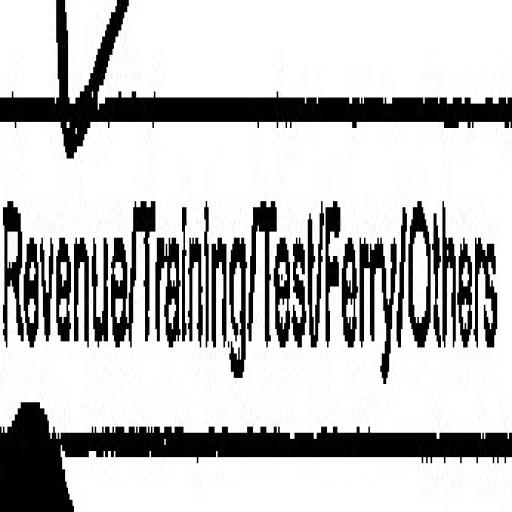check: (1, 8, 134, 464)
